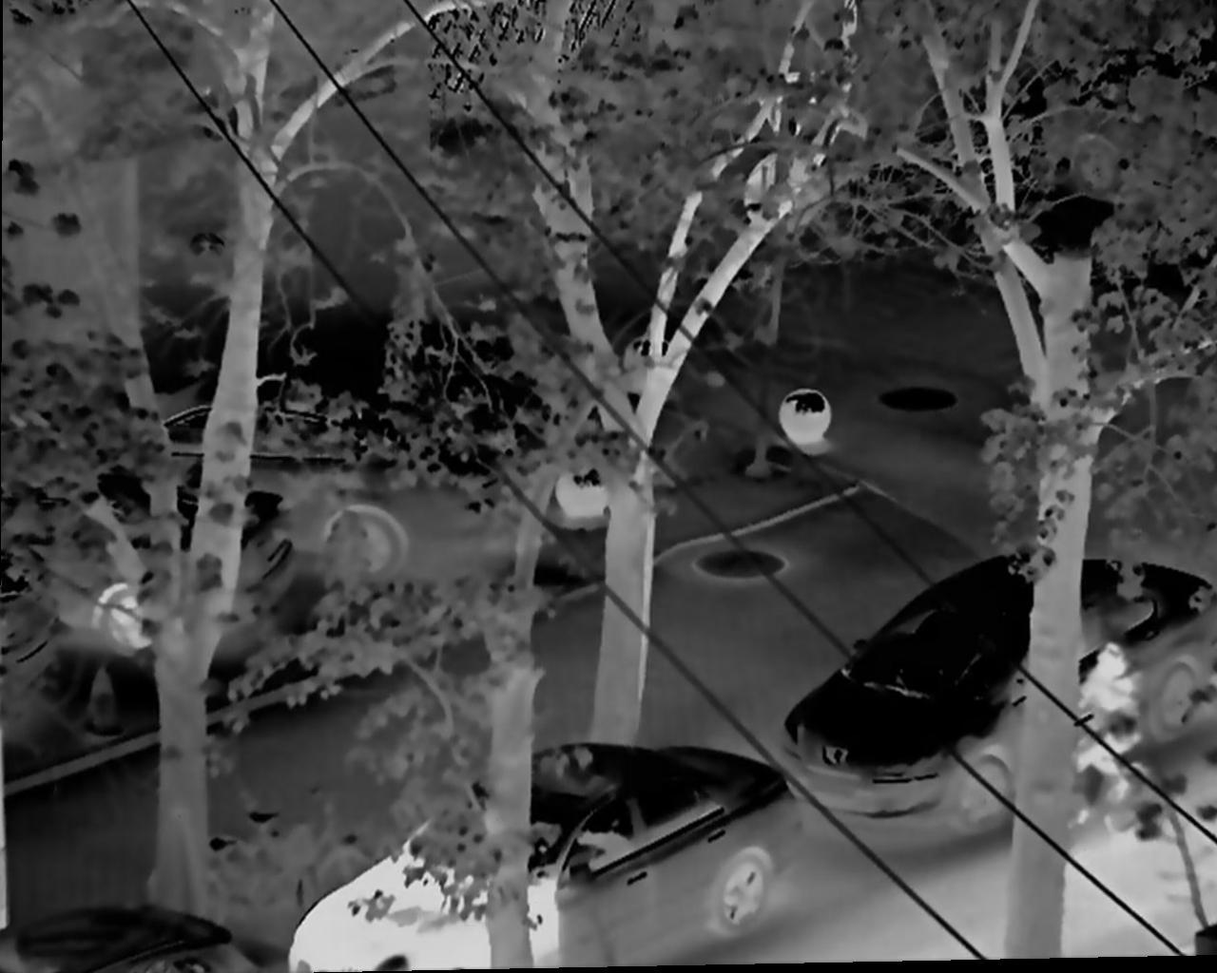person: (1072, 635, 1161, 812)
